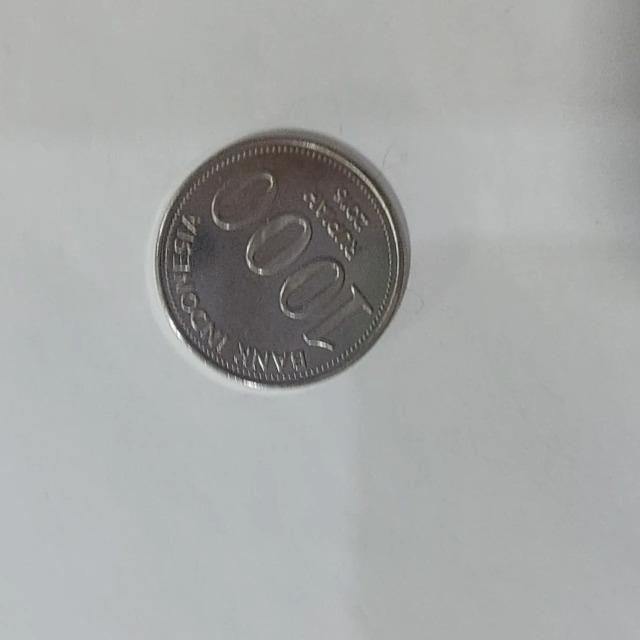Rp100: (152, 126, 412, 388)
